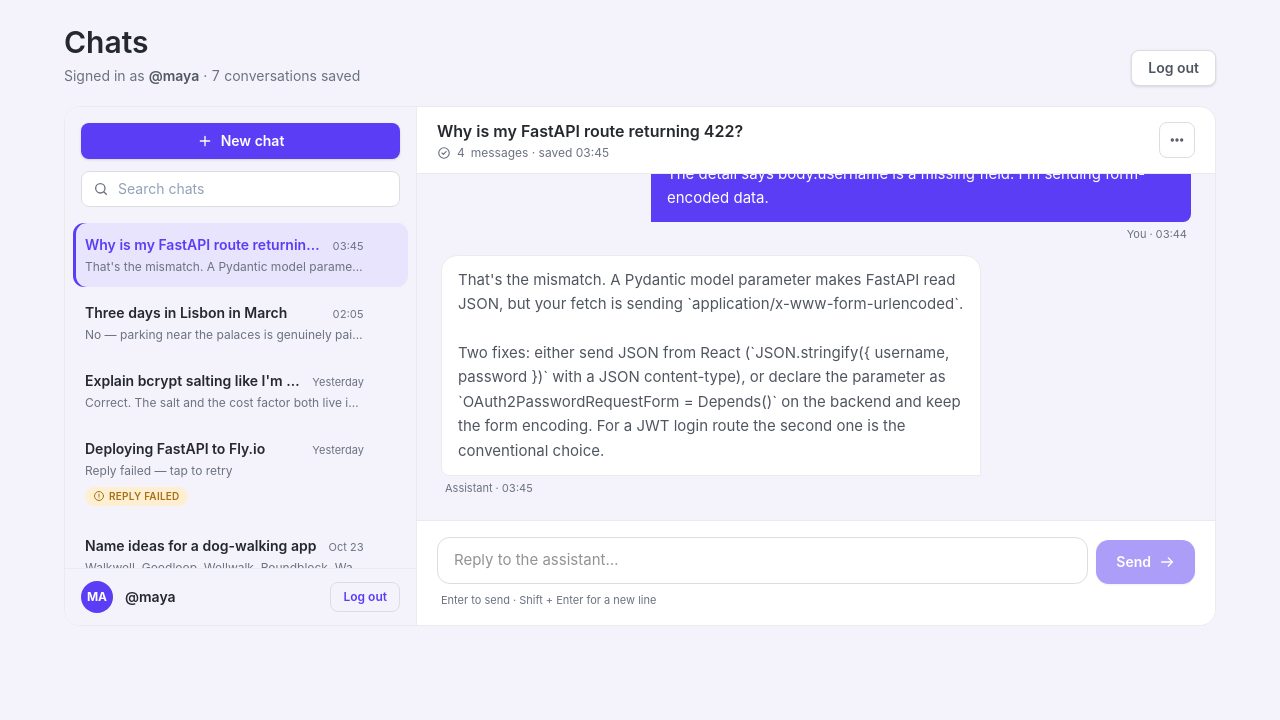
Test case: Chat screen › [AC-016] shows a Logout control that discards the token and routes to Login
(page scrolled)
Step 1. Click the button "Log out" in the row of "conversations" → (1174, 68), box [1131,50,1216,86]
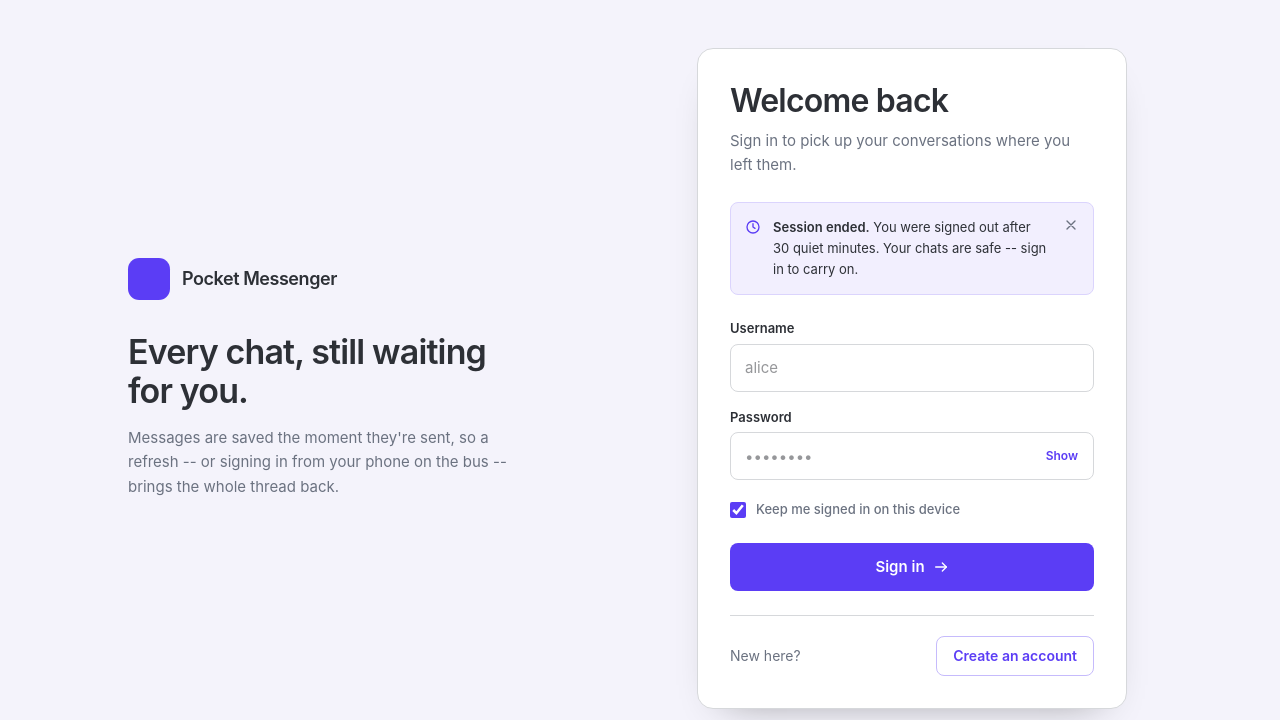
Expected: the heading "Welcome back" is shown, [730,81,948,120]
